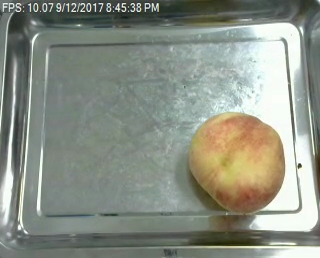Peach: (189, 110, 285, 213)
